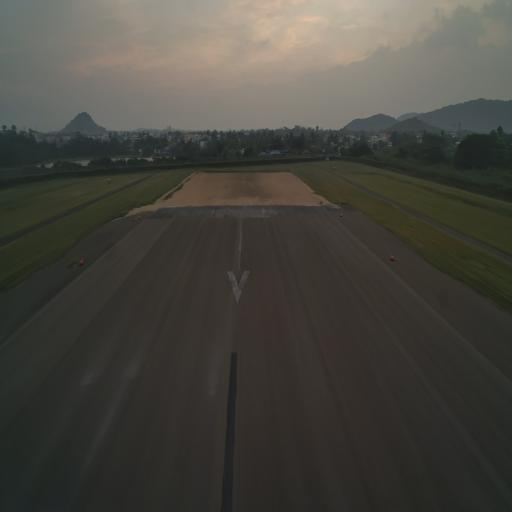on: (338, 210, 344, 220), (79, 257, 85, 267), (388, 253, 395, 261), (137, 213, 141, 221)
